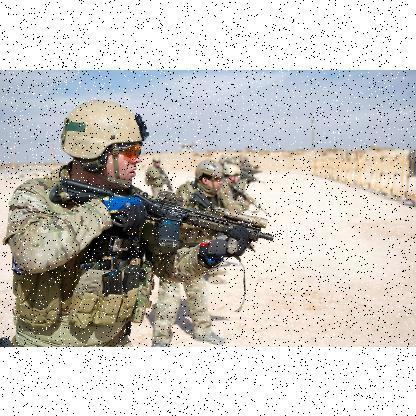gun: (51, 176, 271, 244)
